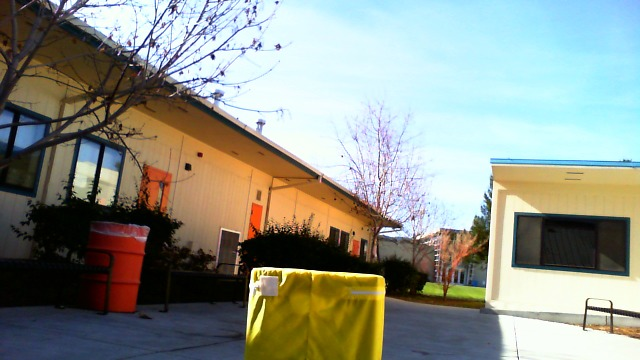cube: (243, 268, 387, 360)
